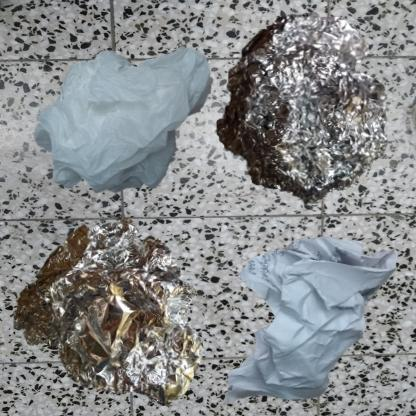aluminio: (10, 213, 209, 407), (213, 10, 389, 206)
bolsa: (10, 10, 287, 260)
papel: (213, 213, 409, 416)
